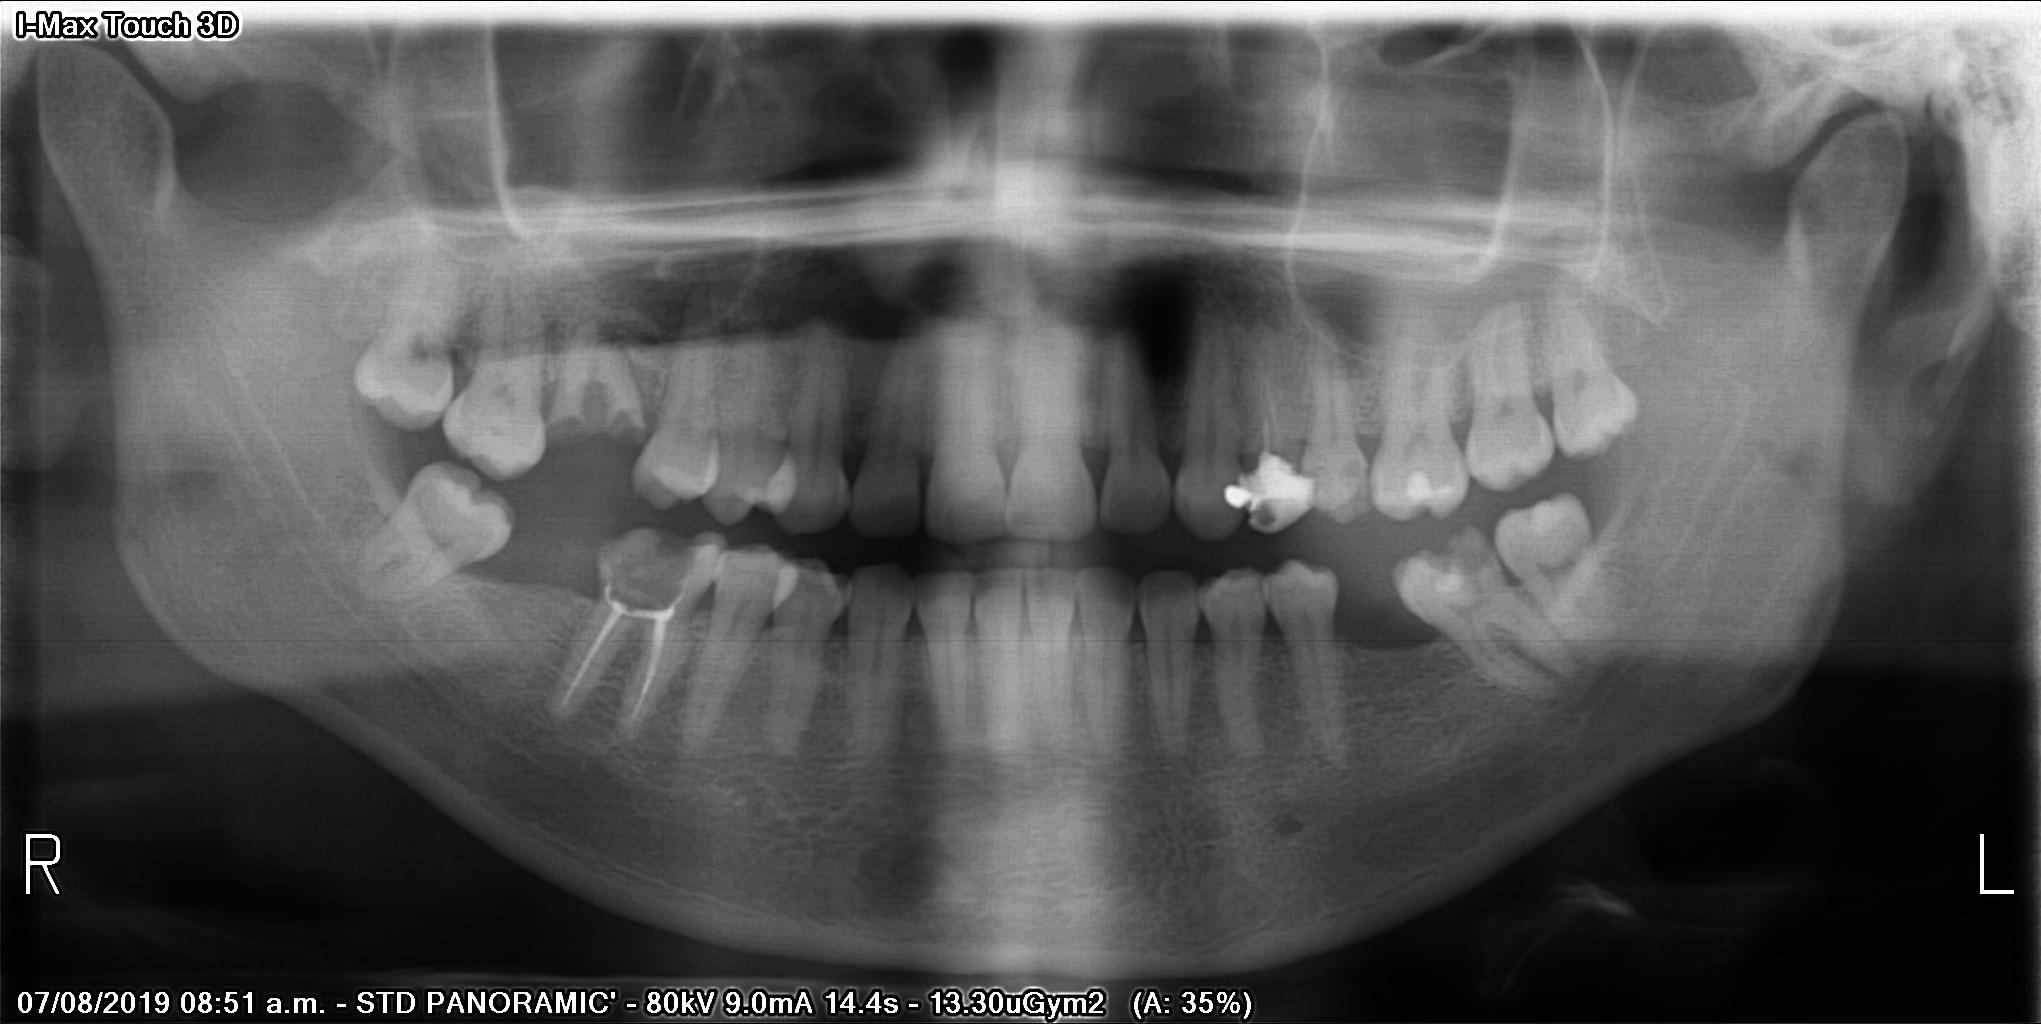Çürük: (1223, 454, 1322, 534), (1395, 471, 1450, 505)
Çürük Bölgesi: (597, 539, 707, 624), (548, 386, 644, 466), (1421, 525, 1497, 579), (828, 573, 854, 597)
